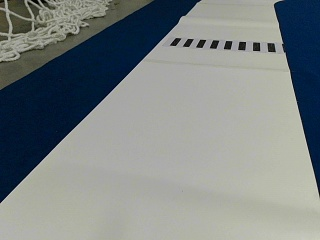crosswalk: (169, 37, 275, 52)
